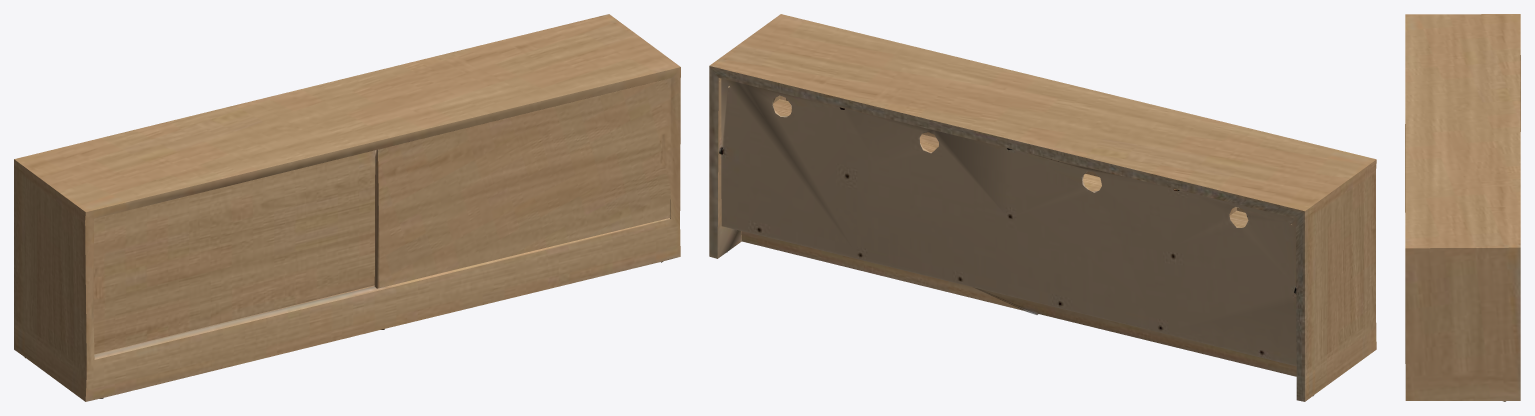
Rendered from tv-console.glb.
The picture shows the model from 3 angles, left to right: view 1: azimuth 30°, elevation 25°; view 2: azimuth 150°, elevation 25°; view 3: azimuth 270°, elevation 25°; orthographic projection. The views are drawn at different scales.
Visible parts, largest first — view 1: model; view 2: model; view 3: model.
Boxes of the visible parts, box(x1,y1,x2,y2) form: model: box(14, 14, 680, 401); model: box(709, 14, 1376, 401); model: box(1405, 14, 1520, 401).
Bounding box in the file's own units: 1.78 × 0.5514 × 0.3737.
Materials: 1 (1 with a texture image).
